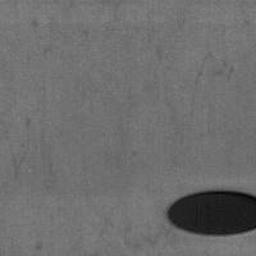Punching: (169, 191, 256, 234)
